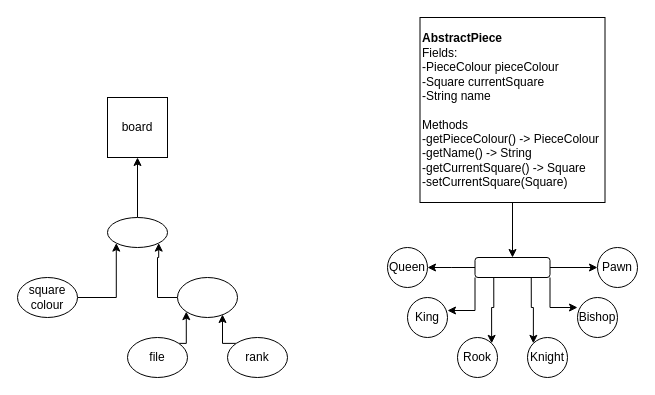
The diagram is 655 pixels wide and 395 high, and some of its shapes have lost their labels. Each missing label, with the centre of its shape:
"location" belongs at point 207,297.
"square" belongs at point 137,232.
"Subclasses" belongs at point 512,267.
